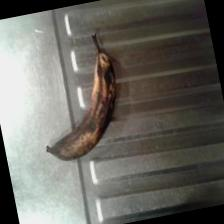Banana Rotten: (24, 100, 152, 163), (86, 28, 134, 142)
